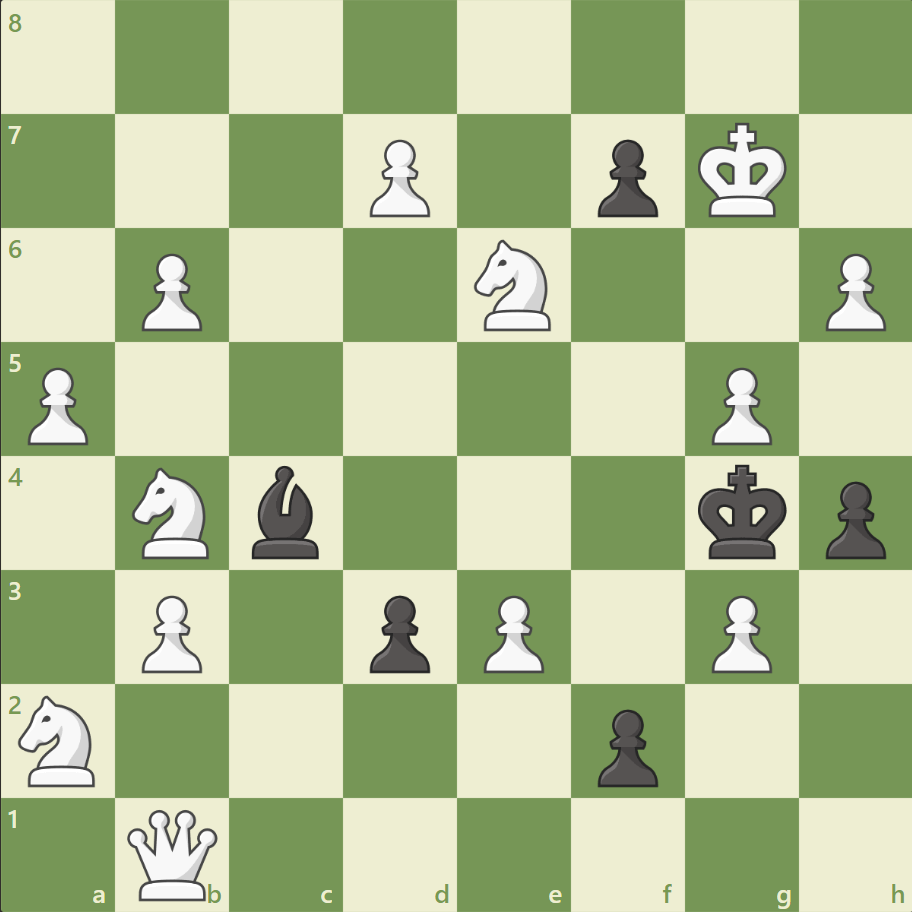K: (692, 117, 792, 225)
N: (124, 461, 222, 564), (465, 234, 562, 337), (11, 688, 108, 791)
P: (133, 246, 208, 337), (20, 359, 95, 450), (701, 359, 776, 450), (133, 586, 208, 677), (474, 586, 549, 677), (701, 586, 776, 677), (361, 132, 435, 223), (815, 246, 889, 337)
Q: (124, 804, 223, 903)
b: (244, 460, 328, 563)
k: (692, 458, 792, 566)
p: (588, 132, 662, 223), (815, 473, 889, 564), (361, 586, 435, 677), (588, 700, 662, 791)
